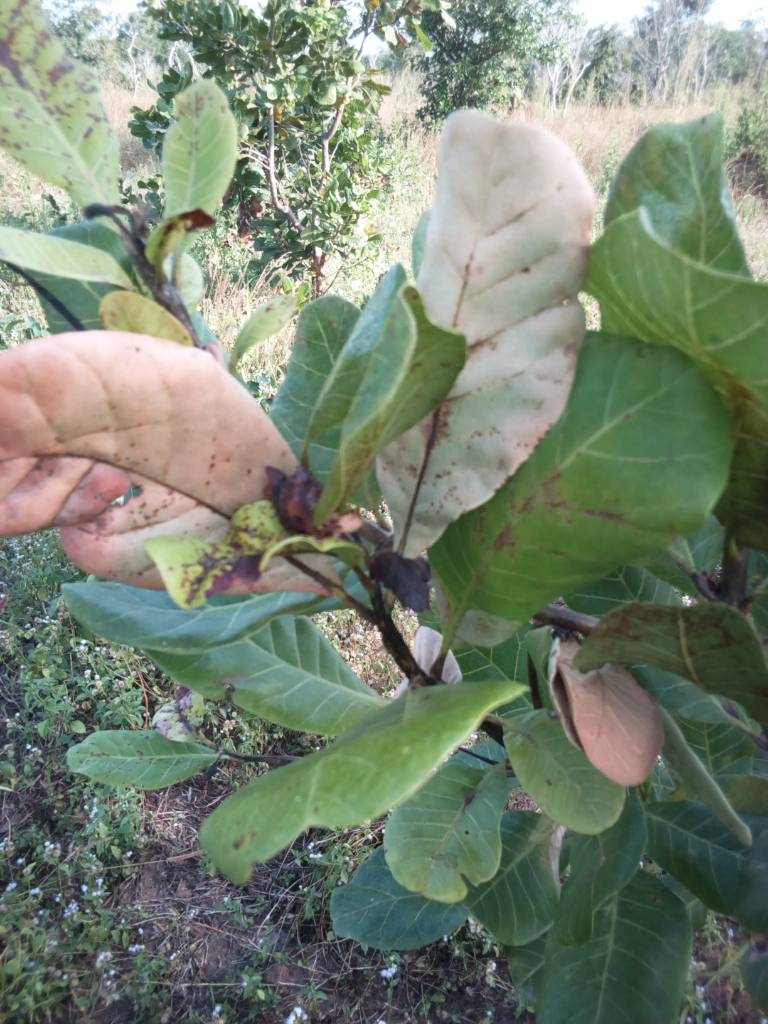Dessèchement des bourgeons: (365, 532, 447, 685)
